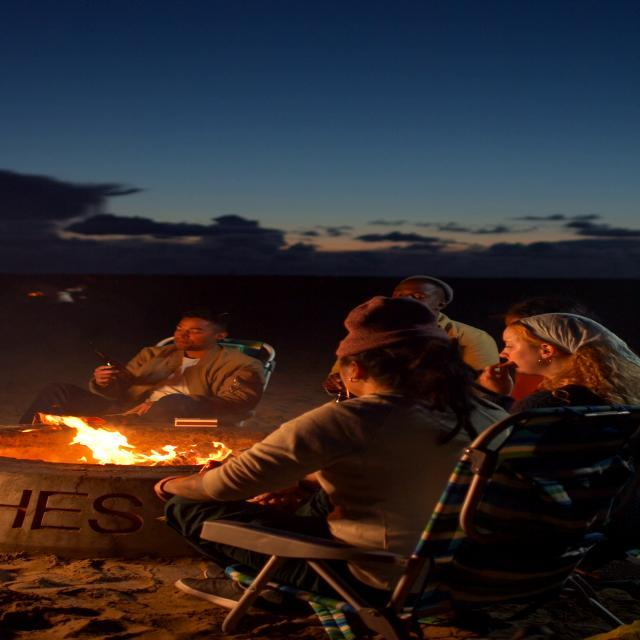Fire: (41, 412, 186, 465)
